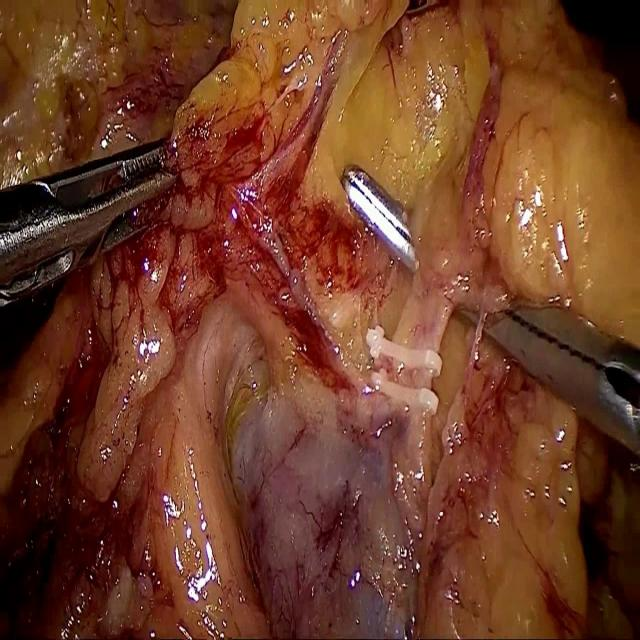surgical-tool: (341, 163, 640, 458), (0, 139, 178, 310)
